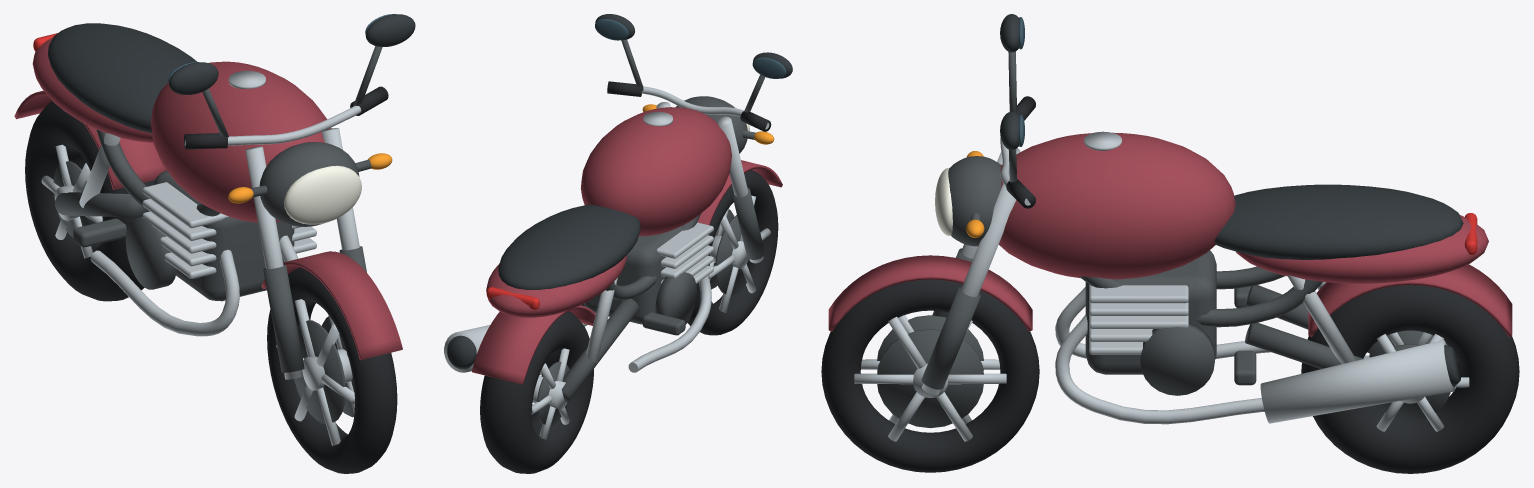
Rendered from Motorrad.glb.
The picture shows the model from 3 angles, left to right: view 1: azimuth 30°, elevation 25°; view 2: azimuth 150°, elevation 25°; view 3: azimuth 270°, elevation 25°; orthographic projection. The views are drawn at different scales.
Visible parts, largest first — view 1: Motorrad_Bordeaux, Motorrad_Pulverbeschichteter Stahl, Motorrad_Satin-Aluminium, Motorrad_Kunststoff anthrazit, Rad_Vorn_Reifen, Rad_Hinten_Reifen, Scheinwerfer_Glas, Rad_Vorn_Satin-Aluminium, Rad_Vorn_Pulverbeschichteter Stahl, Rad_Hinten_Satin-Aluminium, Motorrad_Reifengummi, Rad_Hinten_Pulverbeschichteter Stahl (+1 smaller); view 2: Motorrad_Bordeaux, Motorrad_Pulverbeschichteter Stahl, Motorrad_Kunststoff anthrazit, Rad_Hinten_Reifen, Motorrad_Satin-Aluminium, Rad_Vorn_Reifen, Rad_Vorn_Satin-Aluminium, Rad_Hinten_Satin-Aluminium, Rad_Vorn_Pulverbeschichteter Stahl, Motorrad_Getoentes Glas, Motorrad_Reifengummi, Rad_Hinten_Pulverbeschichteter Stahl (+1 smaller); view 3: Motorrad_Bordeaux, Motorrad_Satin-Aluminium, Motorrad_Pulverbeschichteter Stahl, Rad_Hinten_Reifen, Rad_Vorn_Reifen, Motorrad_Kunststoff anthrazit, Rad_Vorn_Pulverbeschichteter Stahl, Rad_Vorn_Satin-Aluminium, Rad_Hinten_Satin-Aluminium, Rad_Hinten_Pulverbeschichteter Stahl, Scheinwerfer_Glas, Motorrad_Reifengummi.
Part boxes in pixels (x1,y1,x2,y2): Motorrad_Bordeaux: (14, 37, 402, 360); Motorrad_Pulverbeschichteter Stahl: (55, 46, 382, 372); Motorrad_Satin-Aluminium: (79, 70, 361, 379); Motorrad_Kunststoff anthrazit: (47, 14, 415, 133); Rad_Vorn_Reifen: (267, 267, 397, 473); Rad_Hinten_Reifen: (25, 101, 154, 301); Scheinwerfer_Glas: (284, 165, 361, 224); Rad_Vorn_Satin-Aluminium: (276, 299, 354, 445); Rad_Vorn_Pulverbeschichteter Stahl: (294, 316, 354, 423); Rad_Hinten_Satin-Aluminium: (41, 144, 102, 258); Motorrad_Reifengummi: (184, 86, 388, 149); Rad_Hinten_Pulverbeschichteter Stahl: (53, 161, 95, 237); Motorrad_Bordeaux: (471, 107, 782, 384); Motorrad_Pulverbeschichteter Stahl: (561, 39, 765, 402); Motorrad_Kunststoff anthrazit: (447, 14, 792, 369); Rad_Hinten_Reifen: (480, 311, 593, 473); Motorrad_Satin-Aluminium: (444, 86, 769, 372); Rad_Vorn_Reifen: (687, 170, 778, 335); Rad_Vorn_Satin-Aluminium: (708, 195, 770, 312); Rad_Hinten_Satin-Aluminium: (531, 348, 569, 439); Rad_Vorn_Pulverbeschichteter Stahl: (708, 209, 755, 295); Motorrad_Getoentes Glas: (595, 19, 786, 78); Motorrad_Reifengummi: (607, 81, 771, 131); Rad_Hinten_Pulverbeschichteter Stahl: (537, 361, 569, 425); Motorrad_Bordeaux: (828, 132, 1512, 337); Motorrad_Satin-Aluminium: (922, 131, 1455, 424); Motorrad_Pulverbeschichteter Stahl: (921, 51, 1371, 395); Rad_Hinten_Reifen: (1301, 285, 1519, 473); Rad_Vorn_Reifen: (821, 279, 1039, 472); Motorrad_Kunststoff anthrazit: (1000, 14, 1463, 386); Rad_Vorn_Pulverbeschichteter Stahl: (877, 315, 983, 428); Rad_Vorn_Satin-Aluminium: (854, 315, 1006, 441); Rad_Hinten_Satin-Aluminium: (1363, 332, 1469, 431); Rad_Hinten_Pulverbeschichteter Stahl: (1369, 330, 1450, 420); Scheinwerfer_Glas: (935, 167, 952, 235); Motorrad_Reifengummi: (1006, 96, 1035, 208).
Size of the model in its own units: 0.85 by 1.31 by 2.06.
